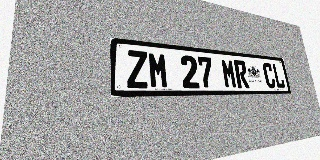2: (180, 55, 200, 88)
7: (196, 56, 215, 88)
C: (262, 62, 276, 88)
L: (272, 63, 286, 88)
M: (148, 52, 169, 88), (220, 59, 237, 88)
R: (233, 60, 250, 88)
Z: (126, 50, 149, 88)
